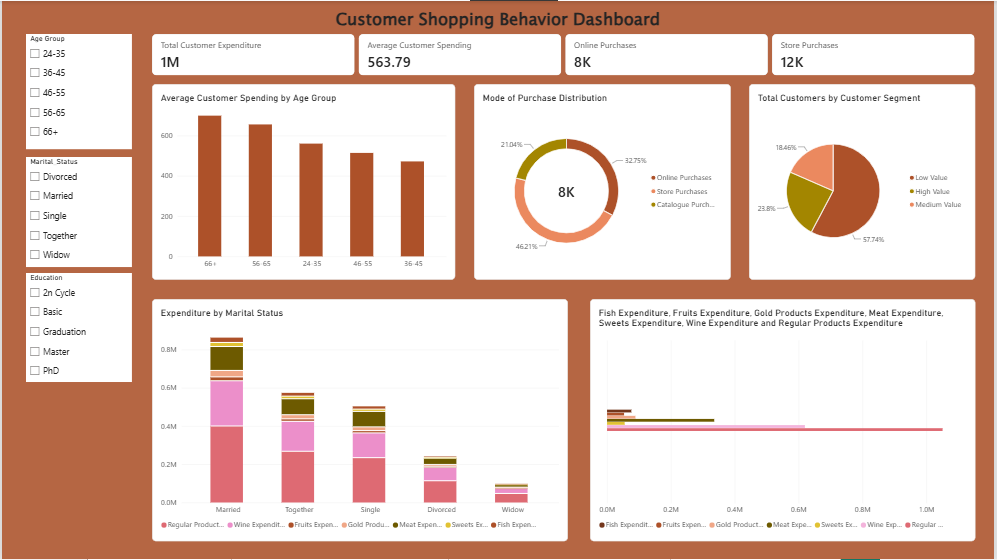

What the dashboard file says about the page in this screenshot:
{"tool":"powerbi","page":{"name":"Product & Purchasing Behaviour","canvas":[1920,1080],"ordinal":1},"visuals":[{"type":"cardVisual","fields":{"Data":["Marketing.Total Customer Expenditure","Marketing.Average Customer Spending","Marketing.Online Purchases","Marketing.Store Purchases"]},"box":[290.2,63.9,1593.4,80.3],"z":0},{"type":"clusteredBarChart","fields":{"Y":["Marketing.Fish Expenditure","Marketing.Fruits Expenditure","Marketing.Gold Products Expenditure","Marketing.Meat Expenditure","Marketing.Sweets Expenditure","Marketing.Wine Expenditure","Marketing.Regular Products Expenditure"]},"box":[1137.7,577,745.9,468.9],"z":1},{"type":"donutChart","title":"Mode of Purchase Distribution","fields":{"Y":["Marketing.Online Purchases","Marketing.Store Purchases","Marketing.Catalogue Purchases"]},"box":[913.1,160.7,496.7,378.7],"z":2},{"type":"clusteredColumnChart","fields":{"Category":["Marketing.Age Group"],"Y":["Marketing.Average Customer Spending"]},"box":[290.2,160.7,586.9,378.7],"z":3},{"type":"columnChart","title":"Expenditure by Marital Status","fields":{"Category":["Marketing.Marital_Status"],"Y":["Marketing.Regular Products Expenditure","Marketing.Wine Expenditure","Marketing.Fruits Expenditure","Marketing.Gold Products Expenditure","Marketing.Meat Expenditure","Marketing.Sweets Expenditure","Marketing.Fish Expenditure"]},"box":[290.2,577,804.9,468.9],"z":4},{"type":"pieChart","fields":{"Category":["Marketing.Customer Segment"],"Y":["Marketing.Total Customers"]},"box":[1445.9,160.7,437.7,378.7],"z":5},{"type":"slicer","fields":{"Values":["Marketing.Age Group"]},"box":[45.9,63.9,204.9,223],"z":6},{"type":"slicer","fields":{"Values":["Marketing.Marital_Status"]},"box":[45.9,301.6,204.9,213.1],"z":7},{"type":"slicer","fields":{"Values":["Marketing.Education"]},"box":[45.9,526.2,204.9,211.5],"z":8},{"type":"textbox","box":[0,11.5,1919.7,52.5],"z":9}]}

Visuals, with their boxes in screenshot pixels (x1, y1, x2, y2), scaled from the page's 1920x1080 canvas onto the 997x560 screenshot:
cardVisual - Marketing.Total Customer Expenditure x Marketing.Average Customer Spending: (151, 33, 978, 75)
clusteredBarChart - Marketing.Fish Expenditure x Marketing.Fruits Expenditure: (591, 299, 978, 542)
"Mode of Purchase Distribution" donutChart: (474, 83, 732, 280)
clusteredColumnChart - Marketing.Age Group x Marketing.Average Customer Spending: (151, 83, 455, 280)
"Expenditure by Marital Status" columnChart: (151, 299, 569, 542)
pieChart - Marketing.Customer Segment x Marketing.Total Customers: (751, 83, 978, 280)
slicer - Marketing.Age Group: (24, 33, 130, 149)
slicer - Marketing.Marital_Status: (24, 156, 130, 267)
slicer - Marketing.Education: (24, 273, 130, 383)
textbox: (0, 6, 996, 33)
